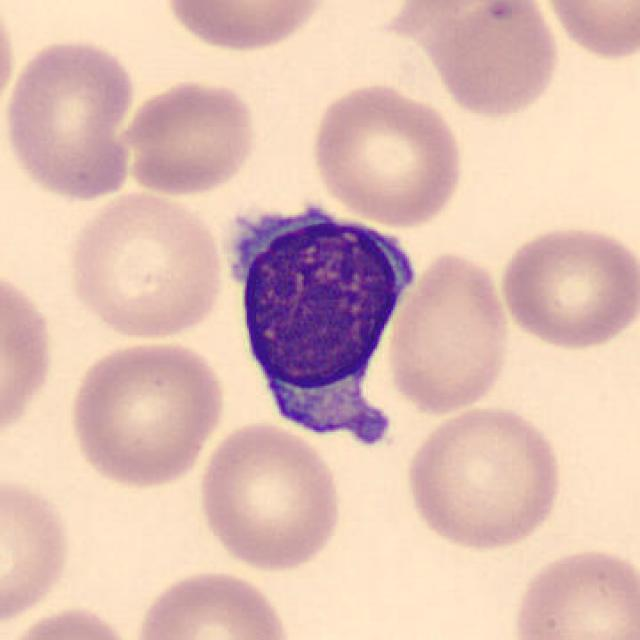Lymphocyte: (217, 188, 423, 458)
RBC: (64, 335, 229, 492), (64, 187, 228, 342), (400, 402, 567, 554), (0, 33, 140, 204), (308, 80, 468, 228), (194, 420, 346, 573), (382, 246, 516, 419), (494, 220, 638, 352), (113, 76, 260, 197), (425, 0, 563, 122), (507, 543, 638, 640), (128, 566, 297, 640), (0, 470, 76, 629), (0, 259, 59, 453), (160, 0, 332, 55), (538, 0, 638, 63), (2, 603, 140, 640), (0, 2, 20, 130)
